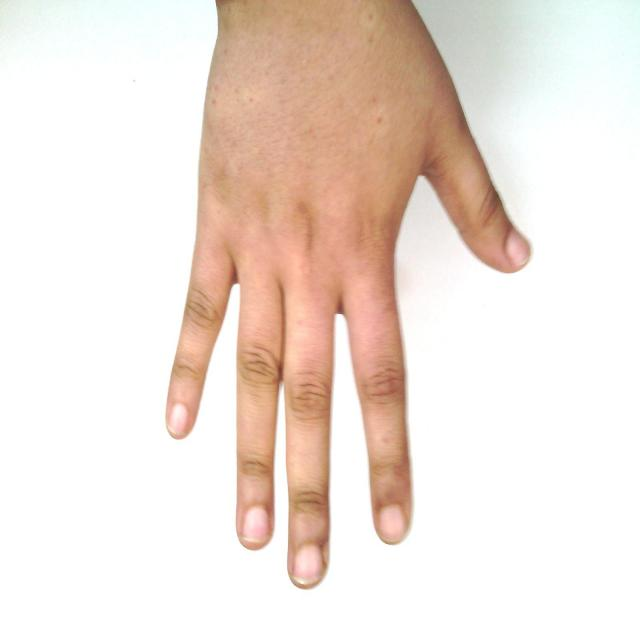others: (136, 1, 570, 588)
